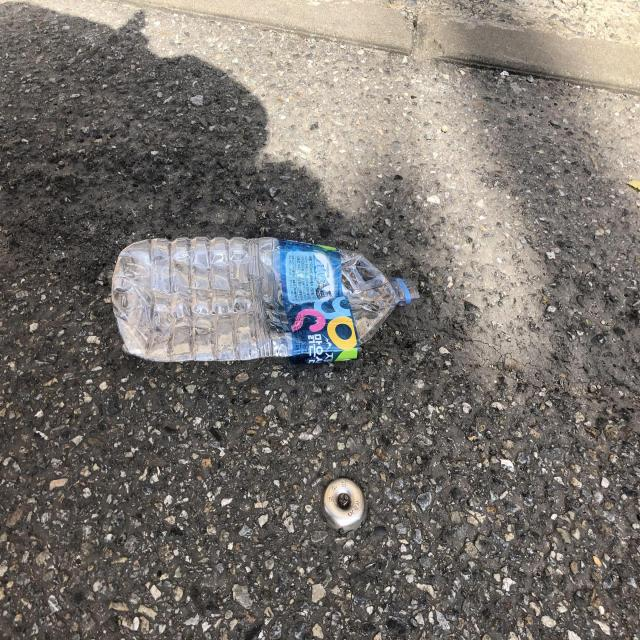plastic: (111, 236, 420, 363)
